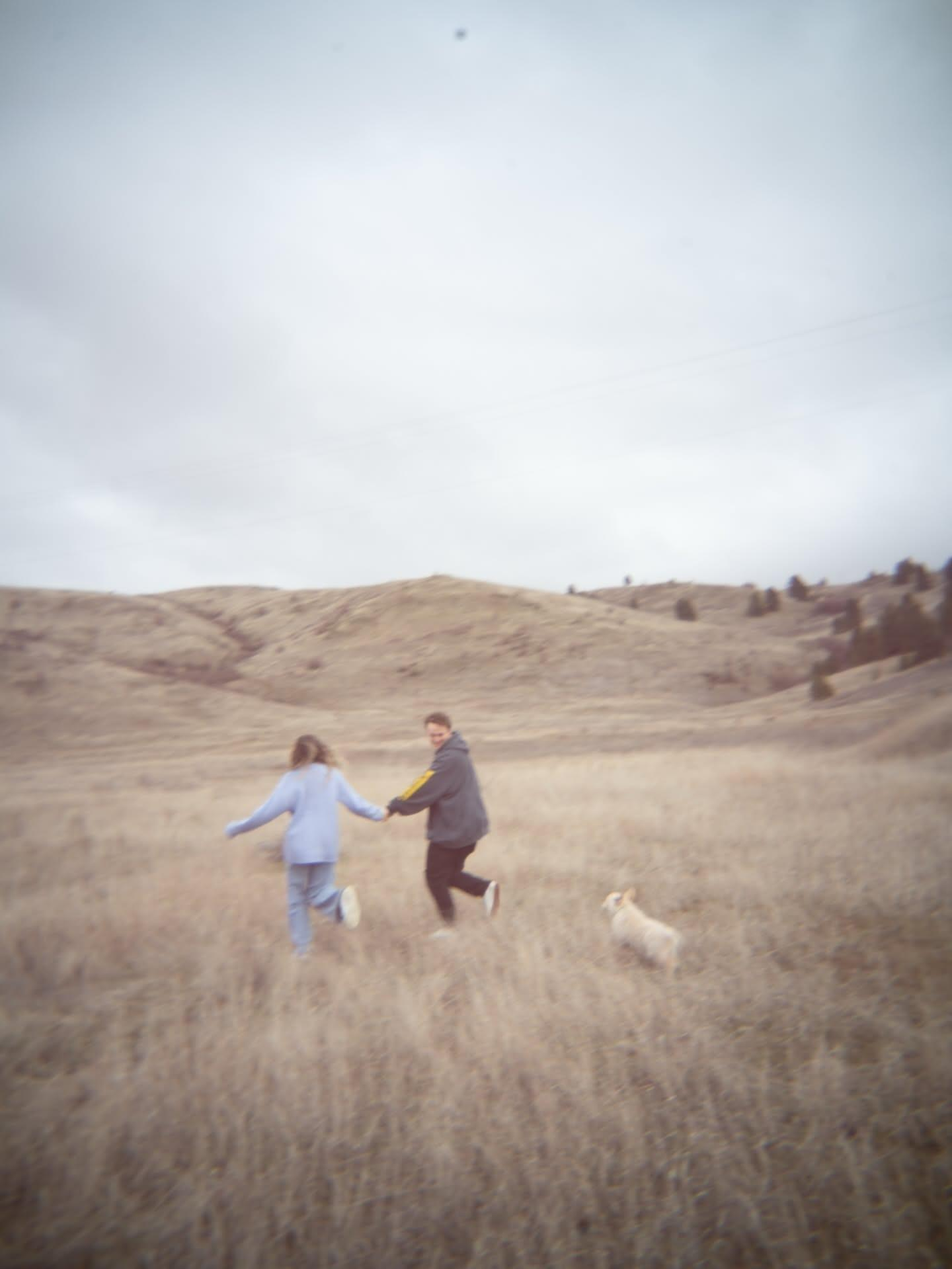adult_dog: (601, 885, 687, 977)
non-dog: (225, 734, 390, 962), (388, 711, 500, 934)
